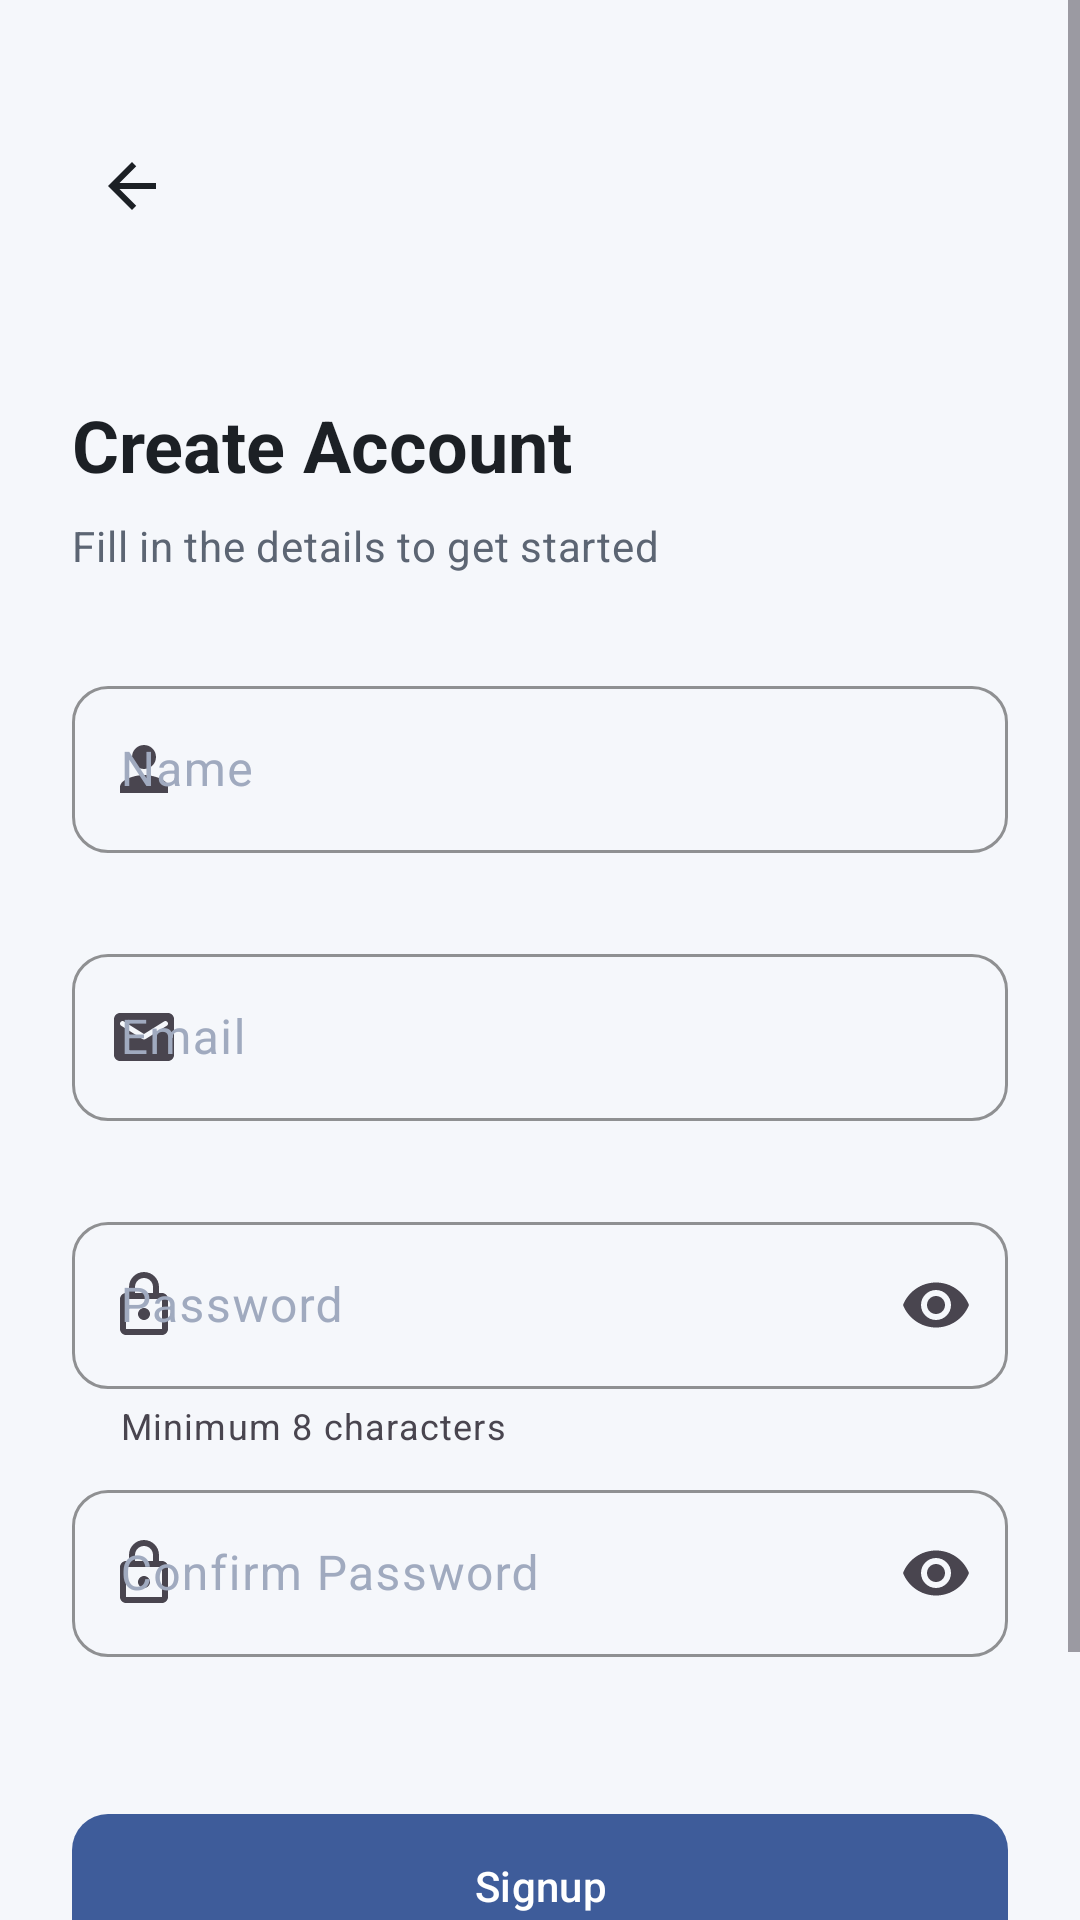

Icons on this 1080×1920 Android screen, each with the point to tap as [x,y]:
back: [132,186]
